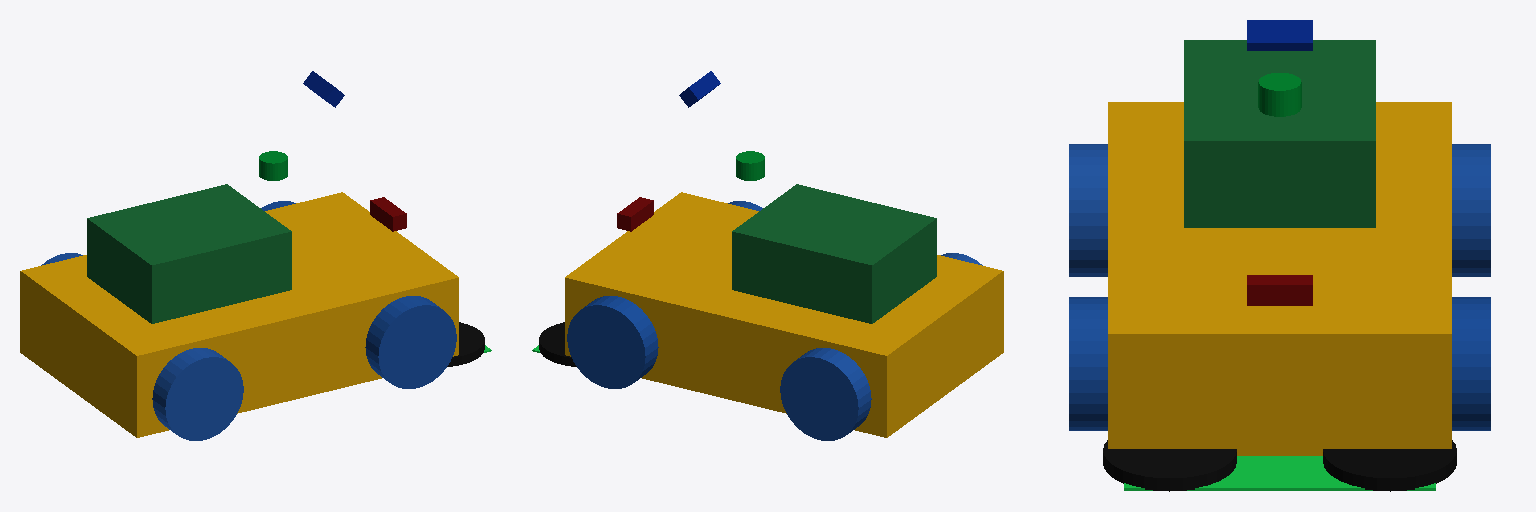
URDF robot description (sanitation_vehicle):
<?xml version="1.0" ?>
<!-- =================================================================================== -->
<!-- |    This document was autogenerated by xacro from /runtime/install/sanitation_vehicle_description/share/sanitation_vehicle_description/urdf/sanitation_vehicle.urdf.xacro | -->
<!-- |    EDITING THIS FILE BY HAND IS NOT RECOMMENDED                                 | -->
<!-- =================================================================================== -->
<robot name="sanitation_vehicle">
  <!-- Local primitive chassis avoids the upstream Gazebo-classic visual
       override colliding with URDF materials in Ogre2 / Gazebo Harmonic. -->
  <link name="base_footprint"/>
  <link name="base_link">
    <visual>
      <geometry>
        <box size="1.15 0.72 0.28"/>
      </geometry>
      <material name="sanitation_chassis_yellow">
        <color rgba="0.84 0.63 0.05 1.0"/>
      </material>
    </visual>
    <collision>
      <geometry>
        <box size="1.15 0.72 0.28"/>
      </geometry>
    </collision>
    <inertial>
      <mass value="80.0"/>
      <inertia ixx="3.978666666666667" ixy="0" ixz="0" iyy="9.339333333333332" iyz="0" izz="12.272666666666666"/>
    </inertial>
  </link>
  <joint name="base_to_footprint" type="fixed">
    <parent link="base_footprint"/>
    <child link="base_link"/>
    <origin rpy="0 0 0" xyz="0 0 0.16"/>
  </joint>
  <link name="front_left_wheel_link">
    <visual>
      <origin rpy="1.5707963267948966 0 0"/>
      <geometry>
        <cylinder length="0.08" radius="0.14"/>
      </geometry>
      <material name="front_left_wheel_material">
        <color rgba="0.12 0.32 0.62 1.0"/>
      </material>
    </visual>
    <collision>
      <origin rpy="1.5707963267948966 0 0"/>
      <geometry>
        <cylinder length="0.08" radius="0.14"/>
      </geometry>
    </collision>
    <inertial>
      <mass value="3.0"/>
      <inertia ixx="0.016300000000000002" ixy="0" ixz="0" iyy="0.029400000000000003" iyz="0" izz="0.016300000000000002"/>
    </inertial>
  </link>
  <joint name="front_left_wheel_joint" type="continuous">
    <axis xyz="0 1 0"/>
    <parent link="base_link"/>
    <child link="front_left_wheel_link"/>
    <origin rpy="0 0 0" xyz="0.38 0.4 -0.02"/>
  </joint>
  <gazebo reference="front_left_wheel_link">
    <mu1>1.0</mu1>
    <mu2>1.0</mu2>
  </gazebo>
  <link name="front_right_wheel_link">
    <visual>
      <origin rpy="1.5707963267948966 0 0"/>
      <geometry>
        <cylinder length="0.08" radius="0.14"/>
      </geometry>
      <material name="front_right_wheel_material">
        <color rgba="0.13 0.33 0.63 1.0"/>
      </material>
    </visual>
    <collision>
      <origin rpy="1.5707963267948966 0 0"/>
      <geometry>
        <cylinder length="0.08" radius="0.14"/>
      </geometry>
    </collision>
    <inertial>
      <mass value="3.0"/>
      <inertia ixx="0.016300000000000002" ixy="0" ixz="0" iyy="0.029400000000000003" iyz="0" izz="0.016300000000000002"/>
    </inertial>
  </link>
  <joint name="front_right_wheel_joint" type="continuous">
    <axis xyz="0 1 0"/>
    <parent link="base_link"/>
    <child link="front_right_wheel_link"/>
    <origin rpy="0 0 0" xyz="0.38 -0.4 -0.02"/>
  </joint>
  <gazebo reference="front_right_wheel_link">
    <mu1>1.0</mu1>
    <mu2>1.0</mu2>
  </gazebo>
  <link name="rear_left_wheel_link">
    <visual>
      <origin rpy="1.5707963267948966 0 0"/>
      <geometry>
        <cylinder length="0.08" radius="0.14"/>
      </geometry>
      <material name="rear_left_wheel_material">
        <color rgba="0.14 0.34 0.64 1.0"/>
      </material>
    </visual>
    <collision>
      <origin rpy="1.5707963267948966 0 0"/>
      <geometry>
        <cylinder length="0.08" radius="0.14"/>
      </geometry>
    </collision>
    <inertial>
      <mass value="3.0"/>
      <inertia ixx="0.016300000000000002" ixy="0" ixz="0" iyy="0.029400000000000003" iyz="0" izz="0.016300000000000002"/>
    </inertial>
  </link>
  <joint name="rear_left_wheel_joint" type="continuous">
    <axis xyz="0 1 0"/>
    <parent link="base_link"/>
    <child link="rear_left_wheel_link"/>
    <origin rpy="0 0 0" xyz="-0.38 0.4 -0.02"/>
  </joint>
  <gazebo reference="rear_left_wheel_link">
    <mu1>1.0</mu1>
    <mu2>1.0</mu2>
  </gazebo>
  <link name="rear_right_wheel_link">
    <visual>
      <origin rpy="1.5707963267948966 0 0"/>
      <geometry>
        <cylinder length="0.08" radius="0.14"/>
      </geometry>
      <material name="rear_right_wheel_material">
        <color rgba="0.15 0.35 0.65 1.0"/>
      </material>
    </visual>
    <collision>
      <origin rpy="1.5707963267948966 0 0"/>
      <geometry>
        <cylinder length="0.08" radius="0.14"/>
      </geometry>
    </collision>
    <inertial>
      <mass value="3.0"/>
      <inertia ixx="0.016300000000000002" ixy="0" ixz="0" iyy="0.029400000000000003" iyz="0" izz="0.016300000000000002"/>
    </inertial>
  </link>
  <joint name="rear_right_wheel_joint" type="continuous">
    <axis xyz="0 1 0"/>
    <parent link="base_link"/>
    <child link="rear_right_wheel_link"/>
    <origin rpy="0 0 0" xyz="-0.38 -0.4 -0.02"/>
  </joint>
  <gazebo reference="rear_right_wheel_link">
    <mu1>1.0</mu1>
    <mu2>1.0</mu2>
  </gazebo>
  <link name="imu_link"/>
  <joint name="imu_to_base_link" type="fixed">
    <parent link="base_link"/>
    <child link="imu_link"/>
    <origin rpy="0 0 0" xyz="0 0 0"/>
  </joint>
  <gazebo>
    <plugin filename="gz-sim-imu-system" name="gz::sim::systems::Imu">
      </plugin>
  </gazebo>
  <gazebo reference="imu_link">
    <sensor name="imu_sensor" type="imu">
      <topic>imu/data</topic>
      <update_rate>50</update_rate>
      <always_on>true</always_on>
      <visualize>true</visualize>
    </sensor>
  </gazebo>
  <link name="laser">
    <visual>
      <geometry>
        <cylinder length="0.06" radius="0.045"/>
      </geometry>
      <material name="sanitation_lidar_green">
        <color rgba="0.02 0.55 0.20 1.0"/>
      </material>
    </visual>
    <collision>
      <geometry>
        <cylinder length="0.06" radius="0.045"/>
      </geometry>
    </collision>
    <inertial>
      <mass value="0.1"/>
      <inertia ixx="0.00006" ixy="0" ixz="0" iyy="0.00006" iyz="0" izz="0.00010"/>
    </inertial>
  </link>
  <joint name="laser_to_base_link" type="fixed">
    <parent link="base_link"/>
    <child link="laser"/>
    <origin rpy="0 0 0" xyz="0.12 0 0.48"/>
  </joint>
  <gazebo reference="laser">
    <sensor name="sanitation_gpu_lidar" type="gpu_lidar">
      <topic>scan</topic>
      <update_rate>10</update_rate>
      <always_on>true</always_on>
      <visualize>true</visualize>
      <lidar>
        <scan>
          <horizontal>
            <samples>360</samples>
            <resolution>1</resolution>
            <min_angle>-3.1416</min_angle>
            <max_angle>3.1416</max_angle>
          </horizontal>
          <vertical>
            <samples>1</samples>
            <resolution>1</resolution>
            <min_angle>0.0</min_angle>
            <max_angle>0.0</max_angle>
          </vertical>
        </scan>
        <range>
          <min>0.08</min>
          <max>12.0</max>
          <resolution>0.01</resolution>
        </range>
      </lidar>
    </sensor>
  </gazebo>
  <link name="camera_link">
    <visual>
      <geometry>
        <box size="0.05 0.14 0.05"/>
      </geometry>
      <material name="sanitation_camera_red">
        <color rgba="0.45 0.05 0.05 1.0"/>
      </material>
    </visual>
    <collision>
      <geometry>
        <box size="0.05 0.14 0.05"/>
      </geometry>
    </collision>
    <inertial>
      <mass value="0.135"/>
      <inertia ixx="0.00025" ixy="0" ixz="0" iyy="0.00006" iyz="0" izz="0.00025"/>
    </inertial>
  </link>
  <joint name="camera_to_base_link" type="fixed">
    <parent link="base_link"/>
    <child link="camera_link"/>
    <origin rpy="0 0 0" xyz=".53 0.0 .22"/>
  </joint>
  <link name="camera_depth_link"/>
  <joint name="camera_depth_joint" type="fixed">
    <parent link="camera_link"/>
    <child link="camera_depth_link"/>
    <origin rpy="0 0 0" xyz="0 0 0"/>
  </joint>
  <gazebo reference="camera_link">
    <sensor name="sanitation_rgbd_camera" type="rgbd_camera">
      <topic>camera</topic>
      <update_rate>15</update_rate>
      <always_on>true</always_on>
      <visualize>true</visualize>
      <camera>
        <optical_frame_id>camera_depth_link</optical_frame_id>
        <horizontal_fov>1.50098</horizontal_fov>
        <image>
          <width>640</width>
          <height>480</height>
          <format>R8G8B8</format>
        </image>
        <clip>
          <near>0.3</near>
          <far>100</far>
        </clip>
      </camera>
    </sensor>
    <sensor name="g2_semantic_gt" type="segmentation">
      <topic>g2/semantic_gt</topic>
      <gz_frame_id>camera_depth_link</gz_frame_id>
      <update_rate>15</update_rate>
      <always_on>true</always_on>
      <camera>
        <segmentation_type>semantic</segmentation_type>
        <optical_frame_id>camera_depth_link</optical_frame_id>
        <horizontal_fov>1.50098</horizontal_fov>
        <image>
          <width>640</width>
          <height>480</height>
          <format>R8G8B8</format>
        </image>
        <clip>
          <near>0.3</near>
          <far>100</far>
        </clip>
      </camera>
    </sensor>
    <sensor name="g2_instance_gt" type="segmentation">
      <topic>g2/instance_gt</topic>
      <gz_frame_id>camera_depth_link</gz_frame_id>
      <update_rate>15</update_rate>
      <always_on>true</always_on>
      <camera>
        <segmentation_type>instance</segmentation_type>
        <optical_frame_id>camera_depth_link</optical_frame_id>
        <horizontal_fov>1.50098</horizontal_fov>
        <image>
          <width>640</width>
          <height>480</height>
          <format>R8G8B8</format>
        </image>
        <clip>
          <near>0.3</near>
          <far>100</far>
        </clip>
      </camera>
    </sensor>
  </gazebo>
  <link name="verification_camera_link">
    <visual>
      <geometry>
        <box size="0.05 0.14 0.05"/>
      </geometry>
      <material name="sanitation_verification_camera_blue">
        <color rgba="0.05 0.18 0.55 1.0"/>
      </material>
    </visual>
    <collision>
      <geometry>
        <box size="0.05 0.14 0.05"/>
      </geometry>
    </collision>
    <inertial>
      <mass value="0.135"/>
      <inertia ixx="0.00025" ixy="0" ixz="0" iyy="0.00006" iyz="0" izz="0.00025"/>
    </inertial>
  </link>
  <joint name="verification_camera_to_base_link" type="fixed">
    <parent link="base_link"/>
    <child link="verification_camera_link"/>
    <origin rpy="0 0.7853981634 0" xyz="0.30 0.0 0.70"/>
  </joint>
  <link name="verification_camera_depth_link"/>
  <joint name="verification_camera_depth_joint" type="fixed">
    <parent link="verification_camera_link"/>
    <child link="verification_camera_depth_link"/>
    <origin rpy="0 0 0" xyz="0 0 0"/>
  </joint>
  <gazebo reference="verification_camera_link">
    <sensor name="sanitation_verification_rgbd_camera" type="rgbd_camera">
      <topic>verification_camera</topic>
      <update_rate>15</update_rate>
      <always_on>true</always_on>
      <visualize>true</visualize>
      <camera>
        <optical_frame_id>verification_camera_depth_link</optical_frame_id>
        <horizontal_fov>1.50098</horizontal_fov>
        <image>
          <width>640</width>
          <height>480</height>
          <format>R8G8B8</format>
        </image>
        <clip>
          <near>0.3</near>
          <far>100</far>
        </clip>
      </camera>
    </sensor>
    <sensor name="g2_verification_semantic_gt" type="segmentation">
      <topic>g2/verification_semantic_gt</topic>
      <gz_frame_id>verification_camera_depth_link</gz_frame_id>
      <update_rate>15</update_rate>
      <always_on>true</always_on>
      <camera>
        <segmentation_type>semantic</segmentation_type>
        <optical_frame_id>verification_camera_depth_link</optical_frame_id>
        <horizontal_fov>1.50098</horizontal_fov>
        <image>
          <width>640</width>
          <height>480</height>
          <format>R8G8B8</format>
        </image>
        <clip>
          <near>0.3</near>
          <far>100</far>
        </clip>
      </camera>
    </sensor>
    <sensor name="g2_verification_instance_gt" type="segmentation">
      <topic>g2/verification_instance_gt</topic>
      <gz_frame_id>verification_camera_depth_link</gz_frame_id>
      <update_rate>15</update_rate>
      <always_on>true</always_on>
      <camera>
        <segmentation_type>instance</segmentation_type>
        <optical_frame_id>verification_camera_depth_link</optical_frame_id>
        <horizontal_fov>1.50098</horizontal_fov>
        <image>
          <width>640</width>
          <height>480</height>
          <format>R8G8B8</format>
        </image>
        <clip>
          <near>0.3</near>
          <far>100</far>
        </clip>
      </camera>
    </sensor>
  </gazebo>
  <gazebo>
    <plugin filename="gz-sim-diff-drive-system" name="gz::sim::systems::DiffDrive">
      <topic>cmd_vel</topic>
      <!-- <frame_id>odom</frame_id> -->
      <child_frame_id>base_footprint</child_frame_id>
      <odom_topic>odom/unfiltered</odom_topic>
      <!-- <tf_topic>/tf</tf_topic> -->
      <left_joint>front_left_wheel_joint</left_joint>
      <right_joint>front_right_wheel_joint</right_joint>
      <left_joint>rear_left_wheel_joint</left_joint>
      <right_joint>rear_right_wheel_joint</right_joint>
      <wheel_separation>0.8</wheel_separation>
      <wheel_radius>0.14</wheel_radius>
      <odom_publish_frequency>50</odom_publish_frequency>
    </plugin>
  </gazebo>
  <gazebo>
    <plugin filename="gz-sim-joint-state-publisher-system" name="gz::sim::systems::JointStatePublisher">
      <topic>joint_states</topic>
      <update_rate>50</update_rate>
      <joint_name>front_left_wheel_joint</joint_name>
      <joint_name>front_right_wheel_joint</joint_name>
      <joint_name>rear_left_wheel_joint</joint_name>
      <joint_name>rear_right_wheel_joint</joint_name>
    </plugin>
  </gazebo>
  <!-- Model-scoped Gazebo truth. Unlike the world Pose_V bridge, this topic
       has one producer bound to this model and preserves an explicit frame
       identity all the way into ROS. It is evaluation-only and must never be
       fused into the realistic odometry / localization lane. -->
  <gazebo>
    <plugin filename="gz-sim-odometry-publisher-system" name="gz::sim::systems::OdometryPublisher">
      <odom_publish_frequency>50</odom_publish_frequency>
      <odom_topic>/ground_truth/model_odom_raw</odom_topic>
      <odom_frame>world</odom_frame>
      <robot_base_frame>sanitation_vehicle/base_footprint</robot_base_frame>
      <dimensions>2</dimensions>
    </plugin>
  </gazebo>
  <gazebo>
    <plugin filename="gz-sim-label-system" name="gz::sim::systems::Label">
      <label>250</label>
    </plugin>
  </gazebo>
  <!-- 40 L bin: 0.50 * 0.40 * 0.20 = 0.040 m^3. -->
  <link name="dust_bin_link">
    <visual>
      <origin xyz="0 0 0"/>
      <geometry>
        <box size="0.50 0.40 0.20"/>
      </geometry>
      <material name="bin_green">
        <color rgba="0.12 0.42 0.22 1.0"/>
      </material>
    </visual>
    <collision>
      <origin xyz="0 0 0"/>
      <geometry>
        <box size="0.50 0.40 0.20"/>
      </geometry>
    </collision>
    <inertial>
      <mass value="8.0"/>
      <inertia ixx="0.133" ixy="0" ixz="0" iyy="0.193" iyz="0" izz="0.273"/>
    </inertial>
  </link>
  <joint name="dust_bin_joint" type="fixed">
    <parent link="base_link"/>
    <child link="dust_bin_link"/>
    <origin rpy="0 0 0" xyz="-0.18 0 0.25"/>
  </joint>
  <!-- Side brushes are fixed visual/collision placeholders in Stage 2.
       Codex should add controllable joints/cleaning semantics later. -->
  <link name="left_brush_link">
    <visual>
      <geometry>
        <cylinder length="0.03" radius="0.14"/>
      </geometry>
      <material name="left_brush_dark">
        <color rgba="0.08 0.08 0.08 1.0"/>
      </material>
    </visual>
    <collision>
      <geometry>
        <cylinder length="0.03" radius="0.14"/>
      </geometry>
    </collision>
    <inertial>
      <mass value="1.0"/>
      <inertia ixx="0.00495" ixy="0" ixz="0" iyy="0.00495" iyz="0" izz="0.0098"/>
    </inertial>
  </link>
  <joint name="left_brush_joint" type="fixed">
    <parent link="base_link"/>
    <child link="left_brush_link"/>
    <origin rpy="0 0 0" xyz="0.58 0.23 -0.14"/>
  </joint>
  <link name="right_brush_link">
    <visual>
      <geometry>
        <cylinder length="0.03" radius="0.14"/>
      </geometry>
      <material name="right_brush_dark">
        <color rgba="0.09 0.09 0.09 1.0"/>
      </material>
    </visual>
    <collision>
      <geometry>
        <cylinder length="0.03" radius="0.14"/>
      </geometry>
    </collision>
    <inertial>
      <mass value="1.0"/>
      <inertia ixx="0.00495" ixy="0" ixz="0" iyy="0.00495" iyz="0" izz="0.0098"/>
    </inertial>
  </link>
  <joint name="right_brush_joint" type="fixed">
    <parent link="base_link"/>
    <child link="right_brush_link"/>
    <origin rpy="0 0 0" xyz="0.58 -0.23 -0.14"/>
  </joint>
  <!-- Non-colliding visualization of the nominal cleaning footprint. -->
  <link name="cleaning_footprint_link">
    <visual>
      <origin xyz="0 0 0"/>
      <geometry>
        <box size="0.32 0.65 0.005"/>
      </geometry>
      <material name="cleaning_zone">
        <color rgba="0.1 0.8 0.3 0.18"/>
      </material>
    </visual>
  </link>
  <joint name="cleaning_footprint_joint" type="fixed">
    <parent link="base_link"/>
    <child link="cleaning_footprint_link"/>
    <origin rpy="0 0 0" xyz="0.55 0 -0.155"/>
  </joint>
  <!-- Mounting point reserved for a future manipulator. -->
  <link name="arm_mount_link"/>
  <joint name="arm_mount_joint" type="fixed">
    <parent link="base_link"/>
    <child link="arm_mount_link"/>
    <origin rpy="0 0 0" xyz="0.10 0 0.32"/>
  </joint>
</robot>

--- What the picture shows (computed from the rendered views, not written in the file) ---
The picture shows the robot from 3 angles, left to right: view 1: azimuth 30°, elevation 25°; view 2: azimuth 150°, elevation 25°; view 3: azimuth 270°, elevation 25°; orthographic projection.
Model sanitation_vehicle with 17 links and 16 joints (4 continuous, 12 fixed), rooted at base_footprint, posed every joint at zero.
Links seen in each view (by area): view 1: base_link, dust_bin_link, front_right_wheel_link, rear_right_wheel_link, right_brush_link, camera_link, laser, verification_camera_link; view 2: base_link, dust_bin_link, front_left_wheel_link, rear_left_wheel_link, left_brush_link, camera_link, laser, verification_camera_link; view 3: base_link, dust_bin_link, front_left_wheel_link, front_right_wheel_link, rear_left_wheel_link, rear_right_wheel_link, left_brush_link, right_brush_link, cleaning_footprint_link, camera_link, verification_camera_link, laser.
Boxes of the visible links, x1,y1,x2,y2 form: base_link: (20,192,458,437); dust_bin_link: (87,184,291,323); front_right_wheel_link: (365,296,456,388); rear_right_wheel_link: (152,348,243,440); right_brush_link: (447,322,484,366); camera_link: (370,197,406,231); laser: (259,151,287,180); verification_camera_link: (303,71,344,107); base_link: (565,192,1003,437); dust_bin_link: (732,184,936,323); front_left_wheel_link: (567,296,658,388); rear_left_wheel_link: (780,348,871,440); left_brush_link: (539,322,576,366); camera_link: (617,197,653,231); laser: (736,151,764,180); verification_camera_link: (679,71,720,107); base_link: (1108,102,1451,455); dust_bin_link: (1184,40,1375,227); front_left_wheel_link: (1452,297,1490,430); front_right_wheel_link: (1069,297,1107,430); rear_left_wheel_link: (1452,144,1490,276); rear_right_wheel_link: (1069,144,1107,276); left_brush_link: (1323,440,1456,491); right_brush_link: (1103,440,1236,491); cleaning_footprint_link: (1124,456,1435,490); camera_link: (1247,275,1312,305); verification_camera_link: (1247,20,1312,50); laser: (1258,73,1301,116).
Size in the robot's own frame: 1.29 by 0.88 by 0.8954 metres.
Geometry: primitives only (box / cylinder / sphere), no mesh files.
